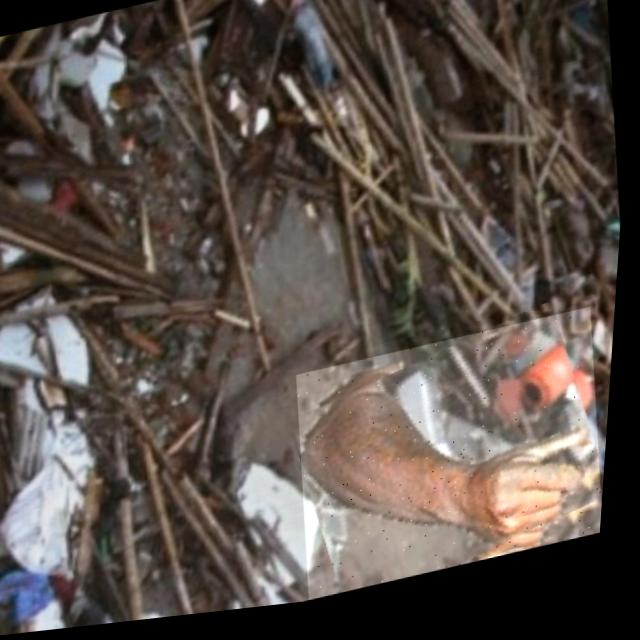Person in Rubble: (289, 318, 620, 610)
